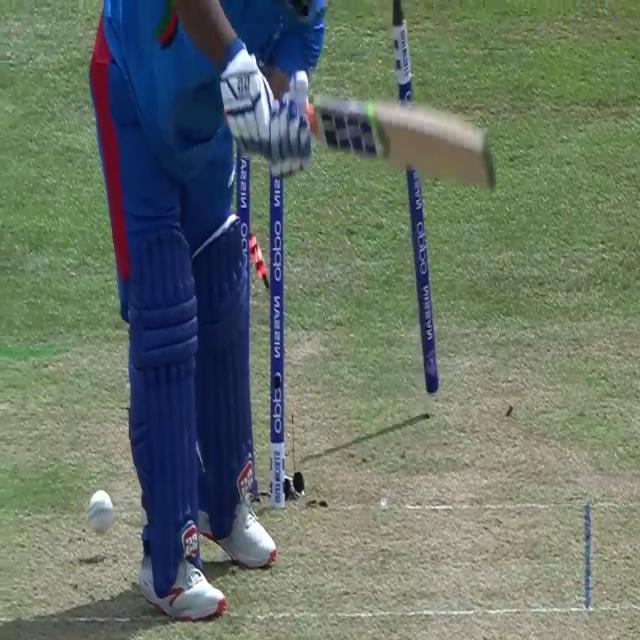ball: (86, 486, 116, 538)
